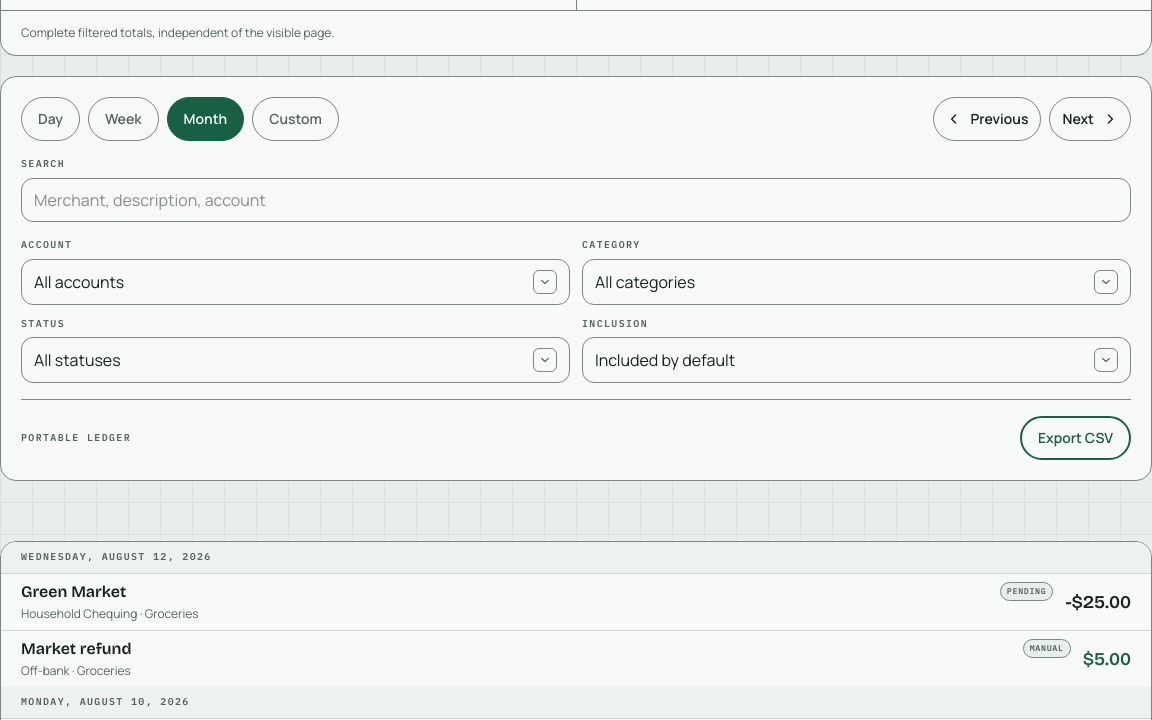
Scenario: GH-30 transaction explorer › COMP-008 syncs the URL with replaceState instead of navigating
This screenshot has width=1152, height=720.
(page scrolled)
Click the dropdown with test id "transactions-status-filter" at (77, 360), box [21,337,570,383]
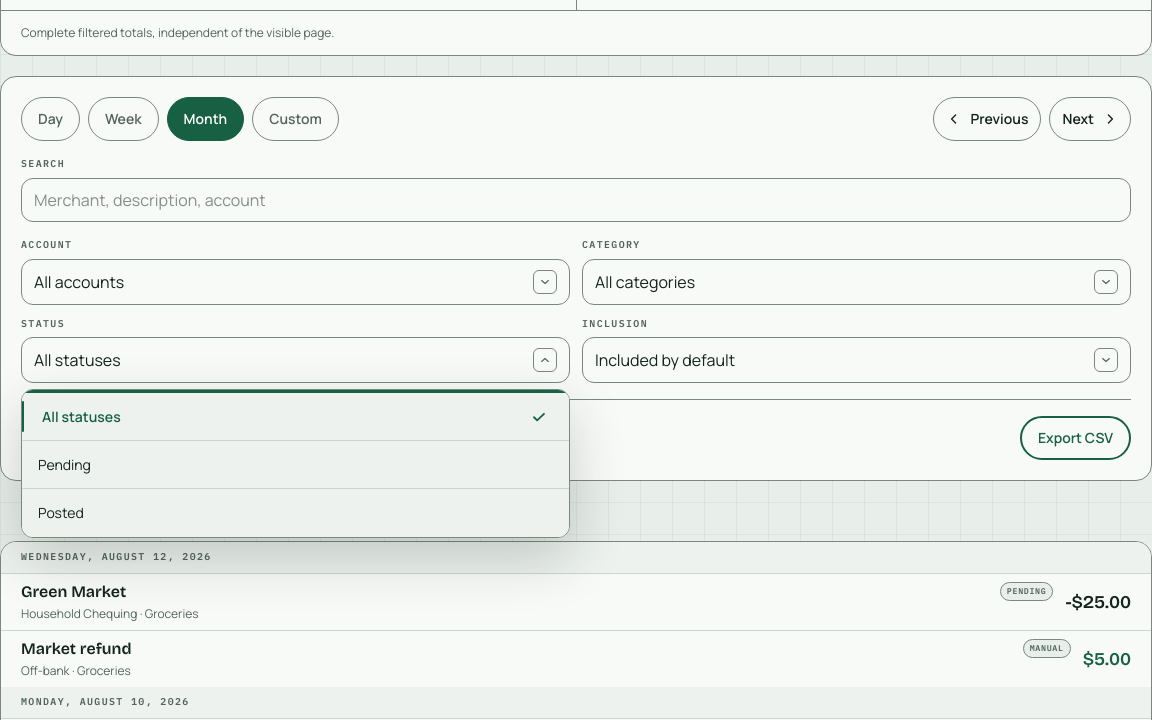
Click the option "Pending" at (64, 464), box [22,441,569,489]
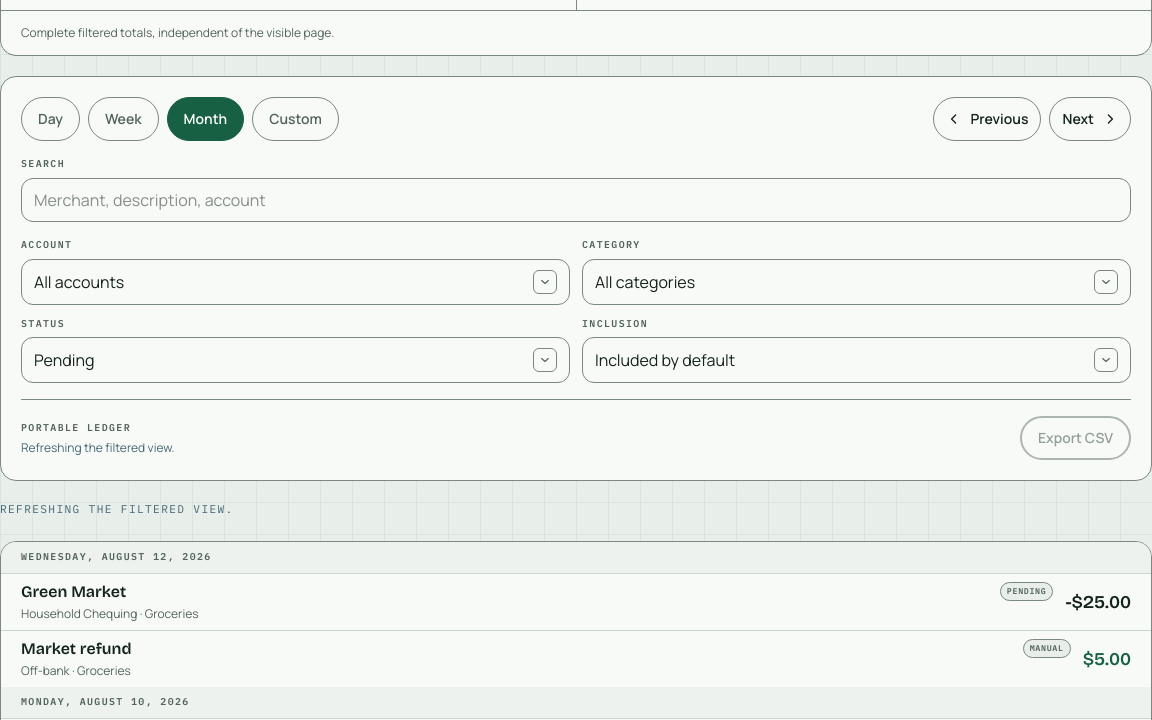
Type "green" into the search field with test id "transactions-search" at (576, 200), box [21,178,1131,222]
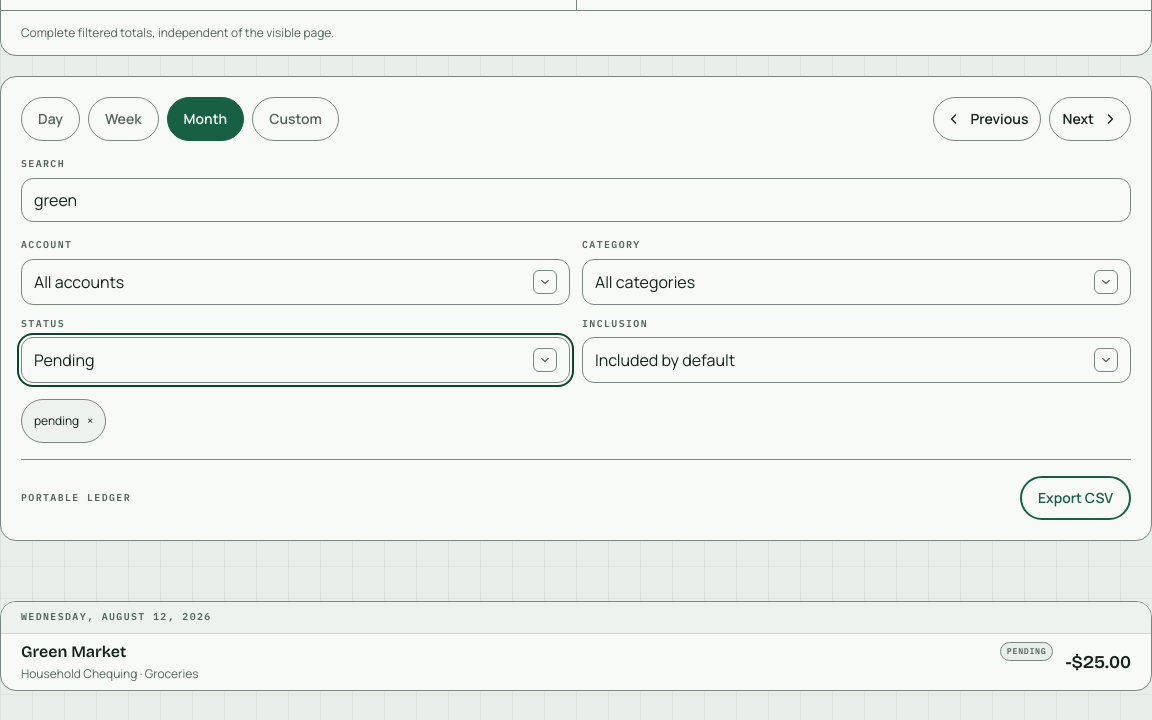
Expected: the text "pending" is shown, [34,413,79,429]
